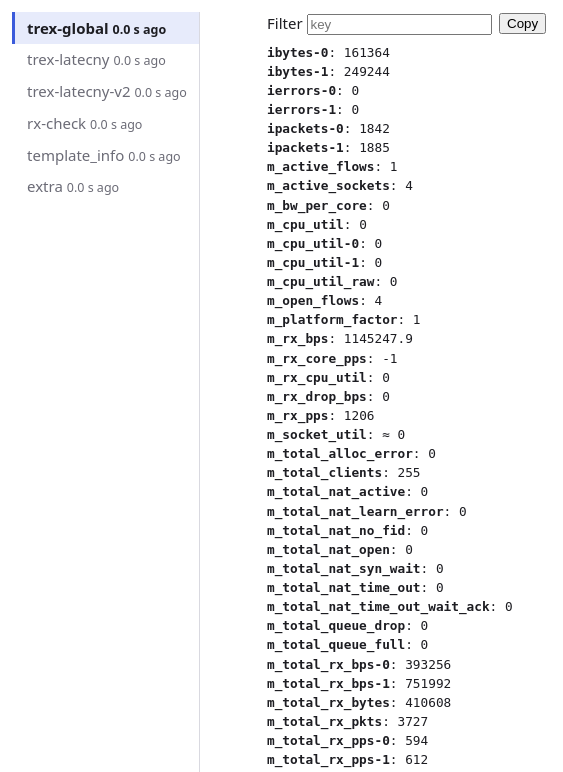
Test case: MonitorInspector › a tiny fraction reads ≈ 0 with the exact value in its tooltip, and ts says what it is
What coordinates should you click on to do the following:
click the tab "extra 0.0 s ago"
I would click on:
 (105, 187)
Its box is x1=12 y1=171 x2=199 y2=203.
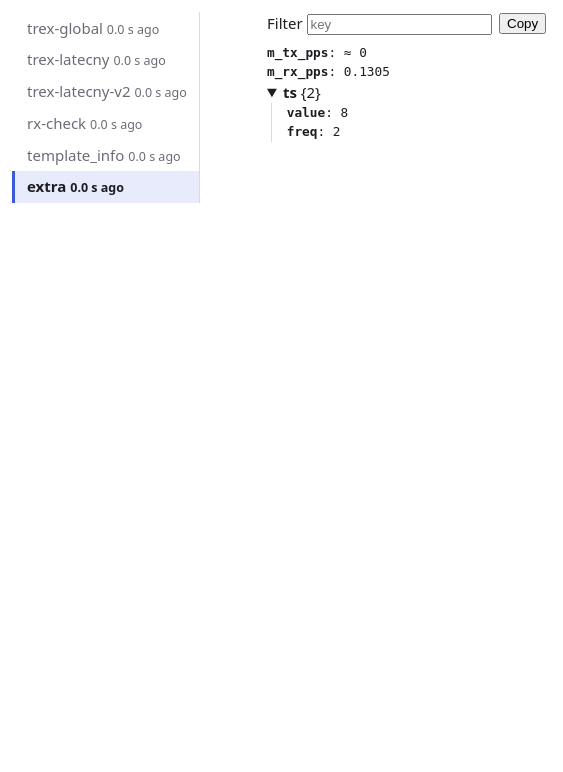
Result: the text "m_tx_pps" reads "m_tx_pps: ≈ 0" at x1=267 y1=44 x2=367 y2=60
Result: the text "m_rx_pps" reads "m_rx_pps: 0.1305" at x1=267 y1=64 x2=390 y2=79
